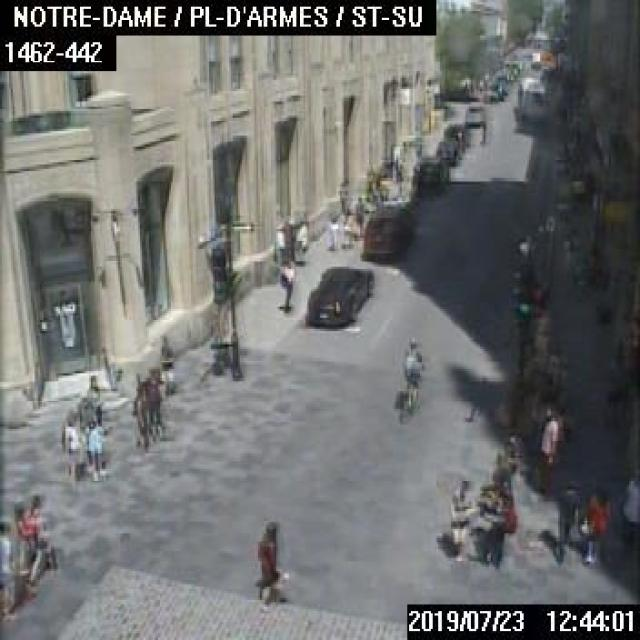bus: (516, 73, 544, 119)
cyclist: (400, 333, 422, 418), (479, 119, 486, 142)
pedestrian: (476, 478, 513, 567), (11, 492, 46, 581), (448, 474, 477, 564), (533, 402, 558, 496), (577, 486, 606, 567), (618, 460, 638, 564), (255, 520, 280, 602), (491, 448, 515, 532), (556, 474, 578, 564), (0, 516, 18, 622), (62, 409, 82, 476), (85, 415, 105, 482), (132, 375, 148, 453), (146, 362, 162, 439), (158, 335, 174, 390), (85, 372, 101, 424), (13, 498, 36, 534), (74, 395, 94, 429), (280, 260, 293, 311), (339, 207, 352, 246), (327, 209, 338, 249), (353, 194, 362, 237), (336, 177, 347, 210)
vehicle: (302, 266, 373, 326), (362, 205, 416, 259), (414, 155, 446, 189), (441, 121, 468, 149), (436, 135, 462, 164), (463, 103, 484, 124), (492, 70, 507, 92), (486, 82, 501, 100)
